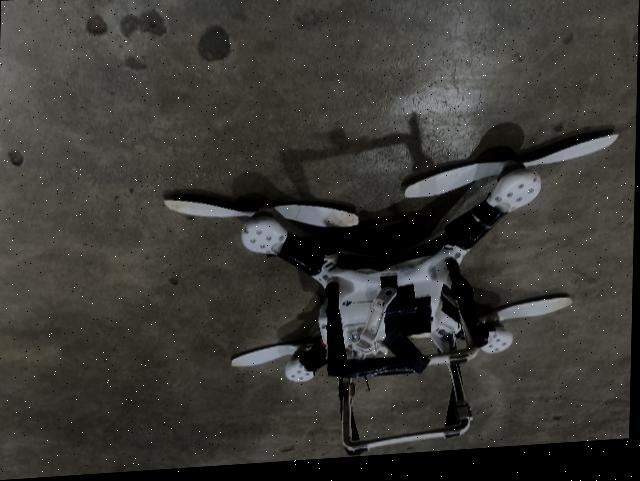drone: (134, 86, 637, 473)
